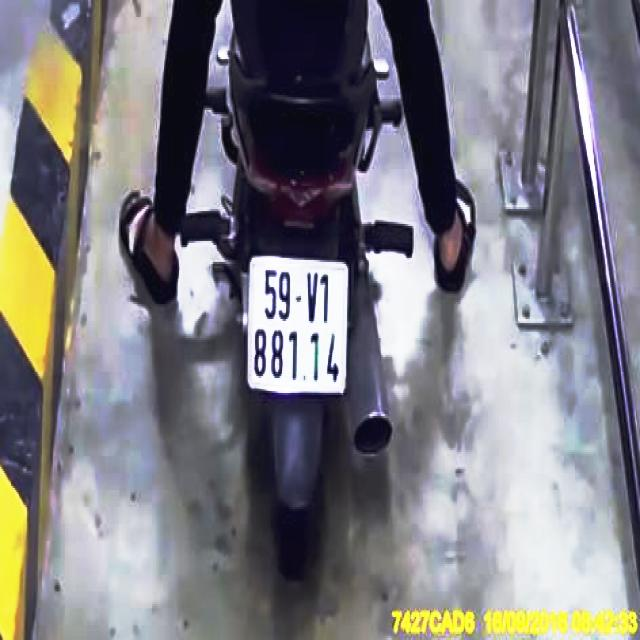license_plate: (247, 259, 349, 394)
